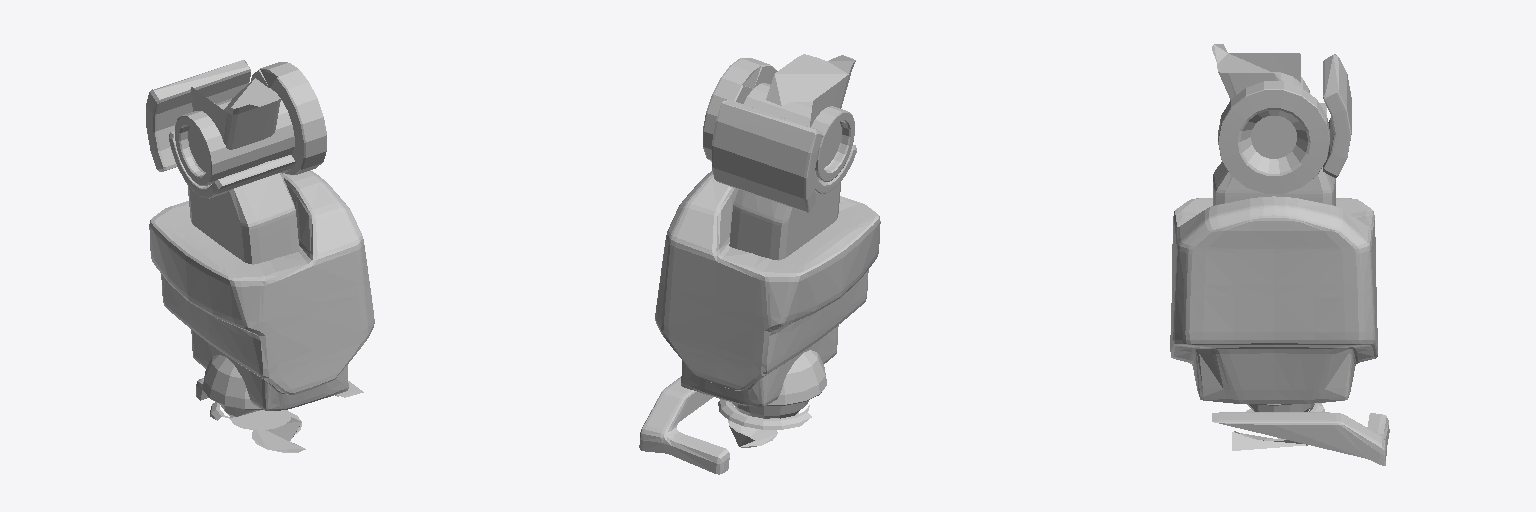
File: Antebrazo_Derecho.obj
The picture shows the model from 3 angles: view 1: azimuth 30°, elevation 25°; view 2: azimuth 150°, elevation 25°; view 3: azimuth 270°, elevation 25°; orthographic projection.
Visible parts, largest first — view 1: rig_test.002; view 2: rig_test.002; view 3: rig_test.002.
Boxes of the visible parts, <box> form: rig_test.002: <box>146,60,374,452</box>; rig_test.002: <box>639,54,880,474</box>; rig_test.002: <box>1170,44,1389,465</box>.
Bounding box in the file's own units: 21.18 × 48.55 × 25.9.